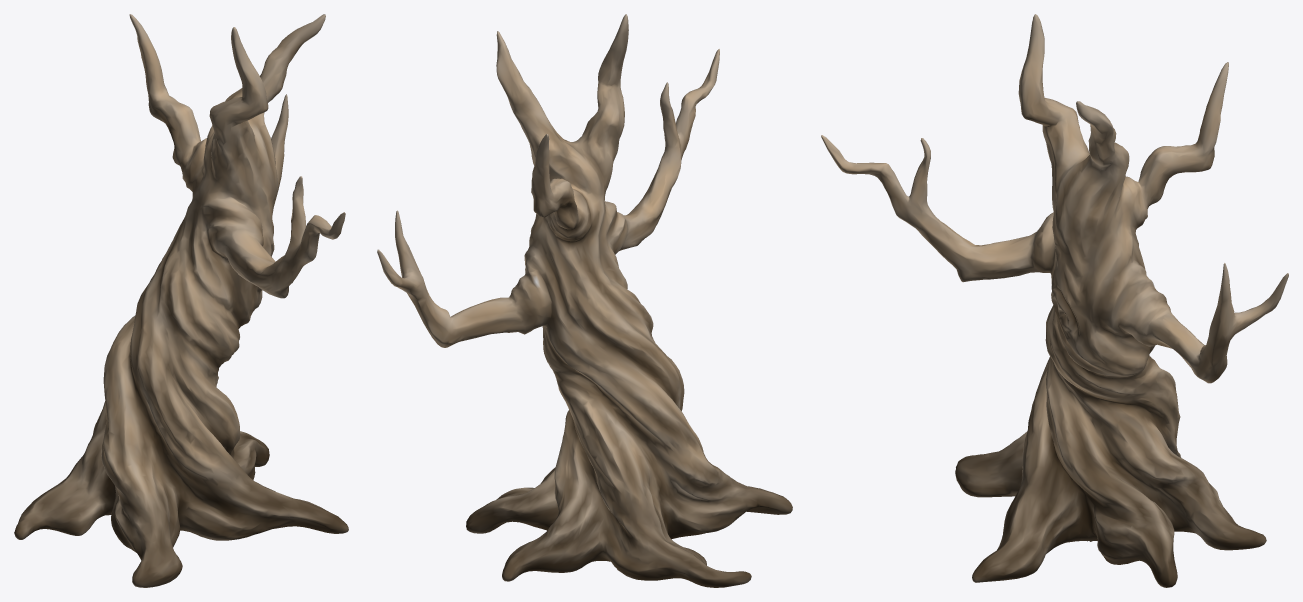
Rendered from SM_bareTree.fbx.
The picture shows the model from 3 angles, left to right: view 1: azimuth 30°, elevation 25°; view 2: azimuth 150°, elevation 25°; view 3: azimuth 270°, elevation 25°; orthographic projection. The views are drawn at different scales.
Visible parts, largest first — view 1: SM_bareTree; view 2: SM_bareTree; view 3: SM_bareTree.
Part boxes in pixels (box(x1,y1,x2,y2)): SM_bareTree: box(14, 14, 348, 587); SM_bareTree: box(377, 14, 792, 587); SM_bareTree: box(821, 14, 1288, 587).
Bounding box in the file's own units: 3.65 × 5.61 × 4.47.
